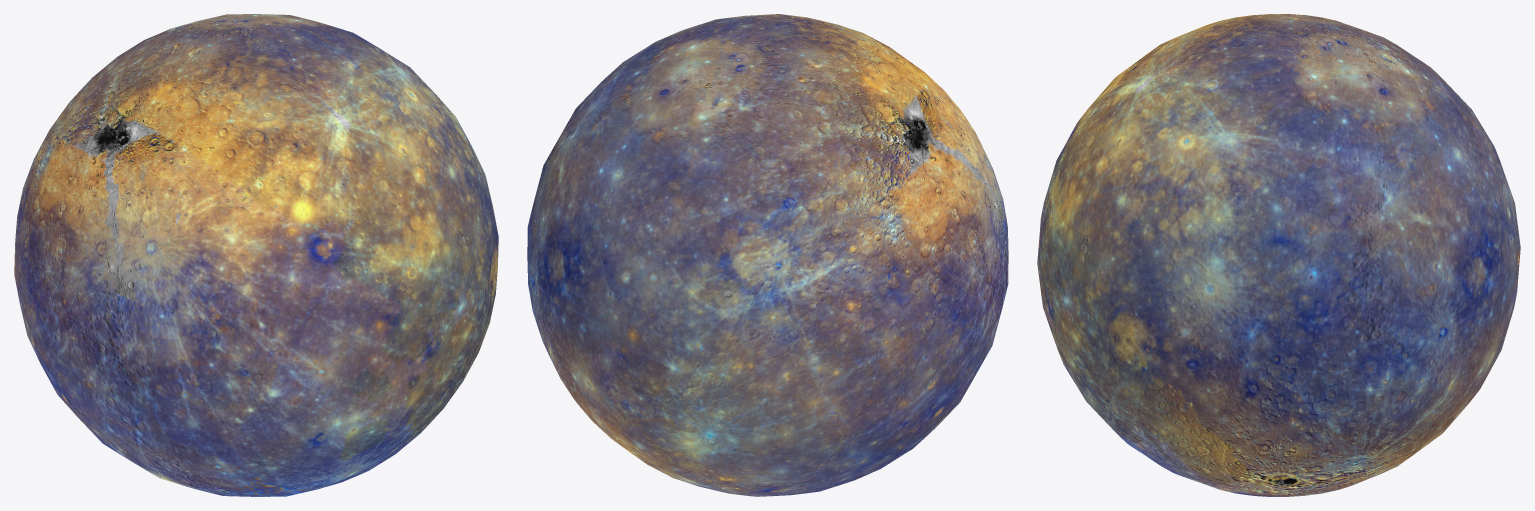
File: ModelMercury.glb
The picture shows the model from 3 angles, left to right: view 1: azimuth 30°, elevation 25°; view 2: azimuth 150°, elevation 25°; view 3: azimuth 270°, elevation 25°; orthographic projection.
Visible parts, largest first — view 1: Sphere; view 2: Sphere; view 3: Sphere.
Boxes of the visible parts, bbox=[...] form: Sphere: bbox=[14, 14, 498, 496]; Sphere: bbox=[527, 14, 1008, 496]; Sphere: bbox=[1037, 14, 1520, 496].
Size of the model in its own units: 2.21 by 2.21 by 2.21.
1 material, 1 textured.
